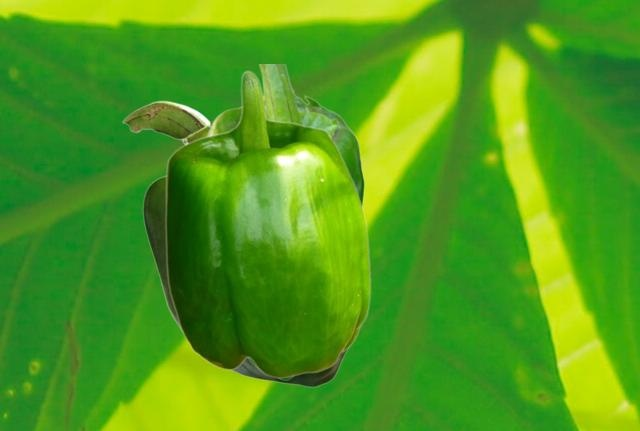bell_pepper: (122, 100, 347, 386), (164, 70, 370, 378), (205, 64, 364, 380)
